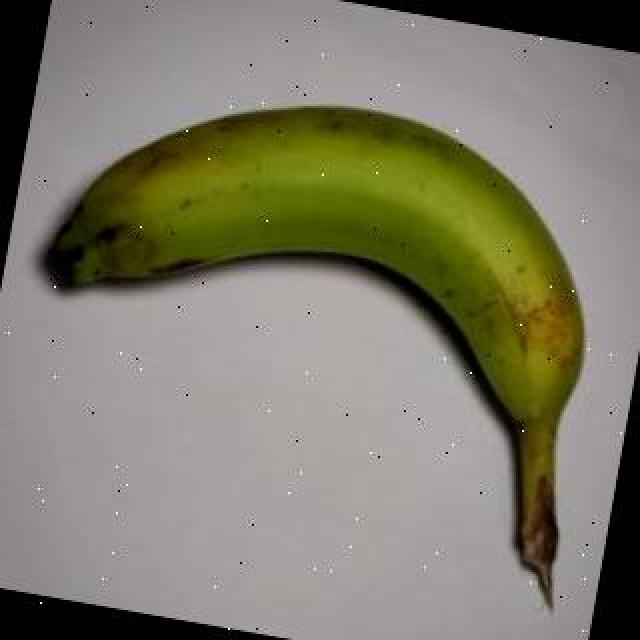Unripe: (40, 103, 585, 583)
